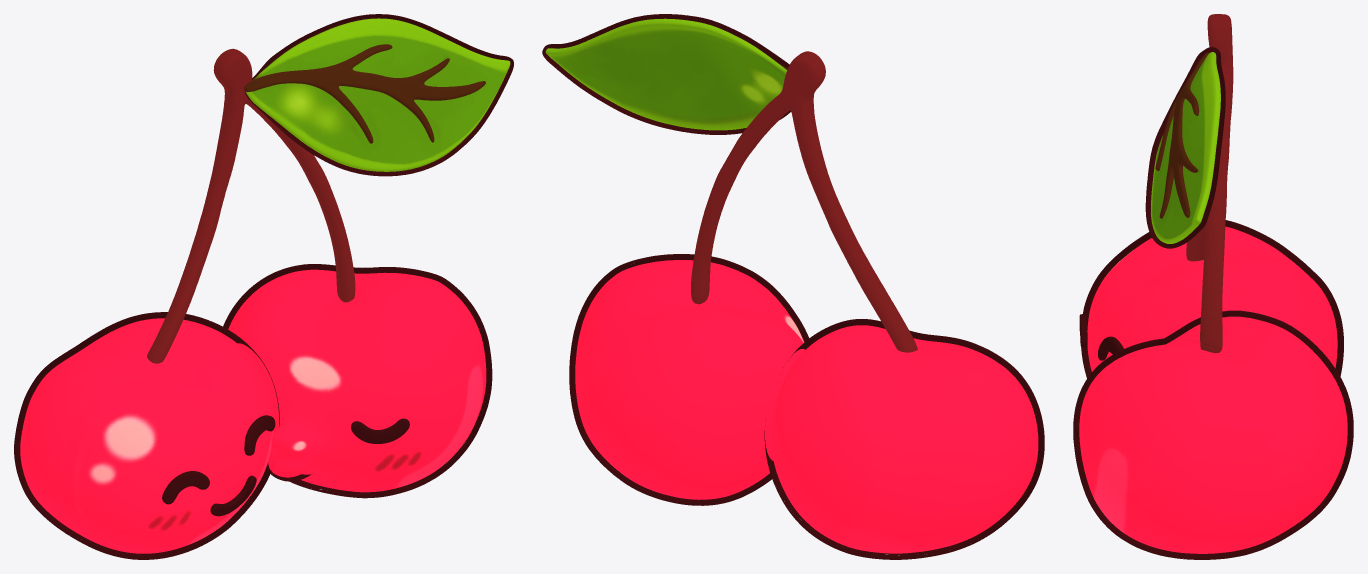
File: cherries-transformed.glb
The picture shows the model from 3 angles, left to right: view 1: azimuth 30°, elevation 25°; view 2: azimuth 150°, elevation 25°; view 3: azimuth 270°, elevation 25°; orthographic projection. The views are drawn at different scales.
Visible parts, largest first — view 1: Object_20, Object_26, Object_5, Object_9, Object_25, Object_7, Object_3, Object_19, Object_16, Object_22, Object_23, Object_17 (+4 smaller); view 2: Object_25, Object_19, Object_5, Object_9, Object_20, Object_23, Object_26, Object_16, Object_3, Object_17, Object_22; view 3: Object_19, Object_20, Object_26, Object_25, Object_5, Object_9, Object_16, Object_17, Object_7, Object_3, Object_22, Object_23 (+1 smaller).
Part boxes in pixels (x1,y1,x2,y2): Object_20: (237, 276, 486, 492); Object_26: (48, 323, 273, 553); Object_5: (246, 18, 510, 171); Object_9: (147, 48, 355, 363); Object_25: (20, 318, 200, 524); Object_7: (244, 44, 485, 143); Object_3: (244, 14, 513, 176); Object_19: (228, 269, 486, 382); Object_16: (223, 264, 492, 492); Object_22: (14, 312, 215, 539); Object_23: (67, 320, 279, 559); Object_17: (266, 404, 488, 498); Object_25: (771, 340, 1034, 553); Object_19: (575, 264, 784, 499); Object_5: (545, 18, 787, 130); Object_9: (691, 51, 917, 352); Object_20: (640, 260, 804, 377); Object_23: (764, 319, 1044, 555); Object_26: (772, 325, 1038, 509); Object_16: (569, 257, 771, 505); Object_3: (542, 14, 790, 134); Object_17: (624, 254, 809, 481); Object_22: (764, 430, 1003, 559); Object_19: (1139, 317, 1347, 553); Object_20: (1079, 316, 1248, 551); Object_26: (1087, 238, 1249, 377); Object_25: (1223, 226, 1337, 368); Object_5: (1151, 52, 1220, 243); Object_9: (1186, 14, 1233, 352); Object_16: (1177, 311, 1353, 559); Object_17: (1073, 310, 1246, 558); Object_7: (1155, 52, 1209, 218); Object_3: (1145, 47, 1225, 248); Object_22: (1225, 220, 1343, 376); Object_23: (1081, 232, 1151, 378).
Bounding box in the file's own units: 4.71 × 4.4 × 2.3.
Materials: 9 (9 with a texture image).
